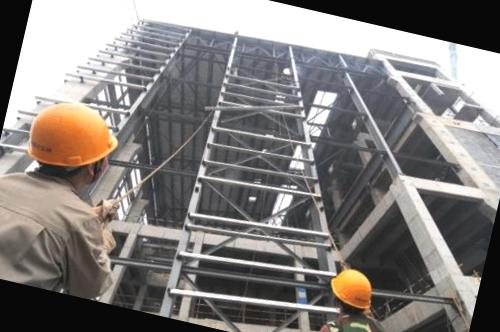person: (0, 87, 152, 303), (304, 262, 416, 332)
